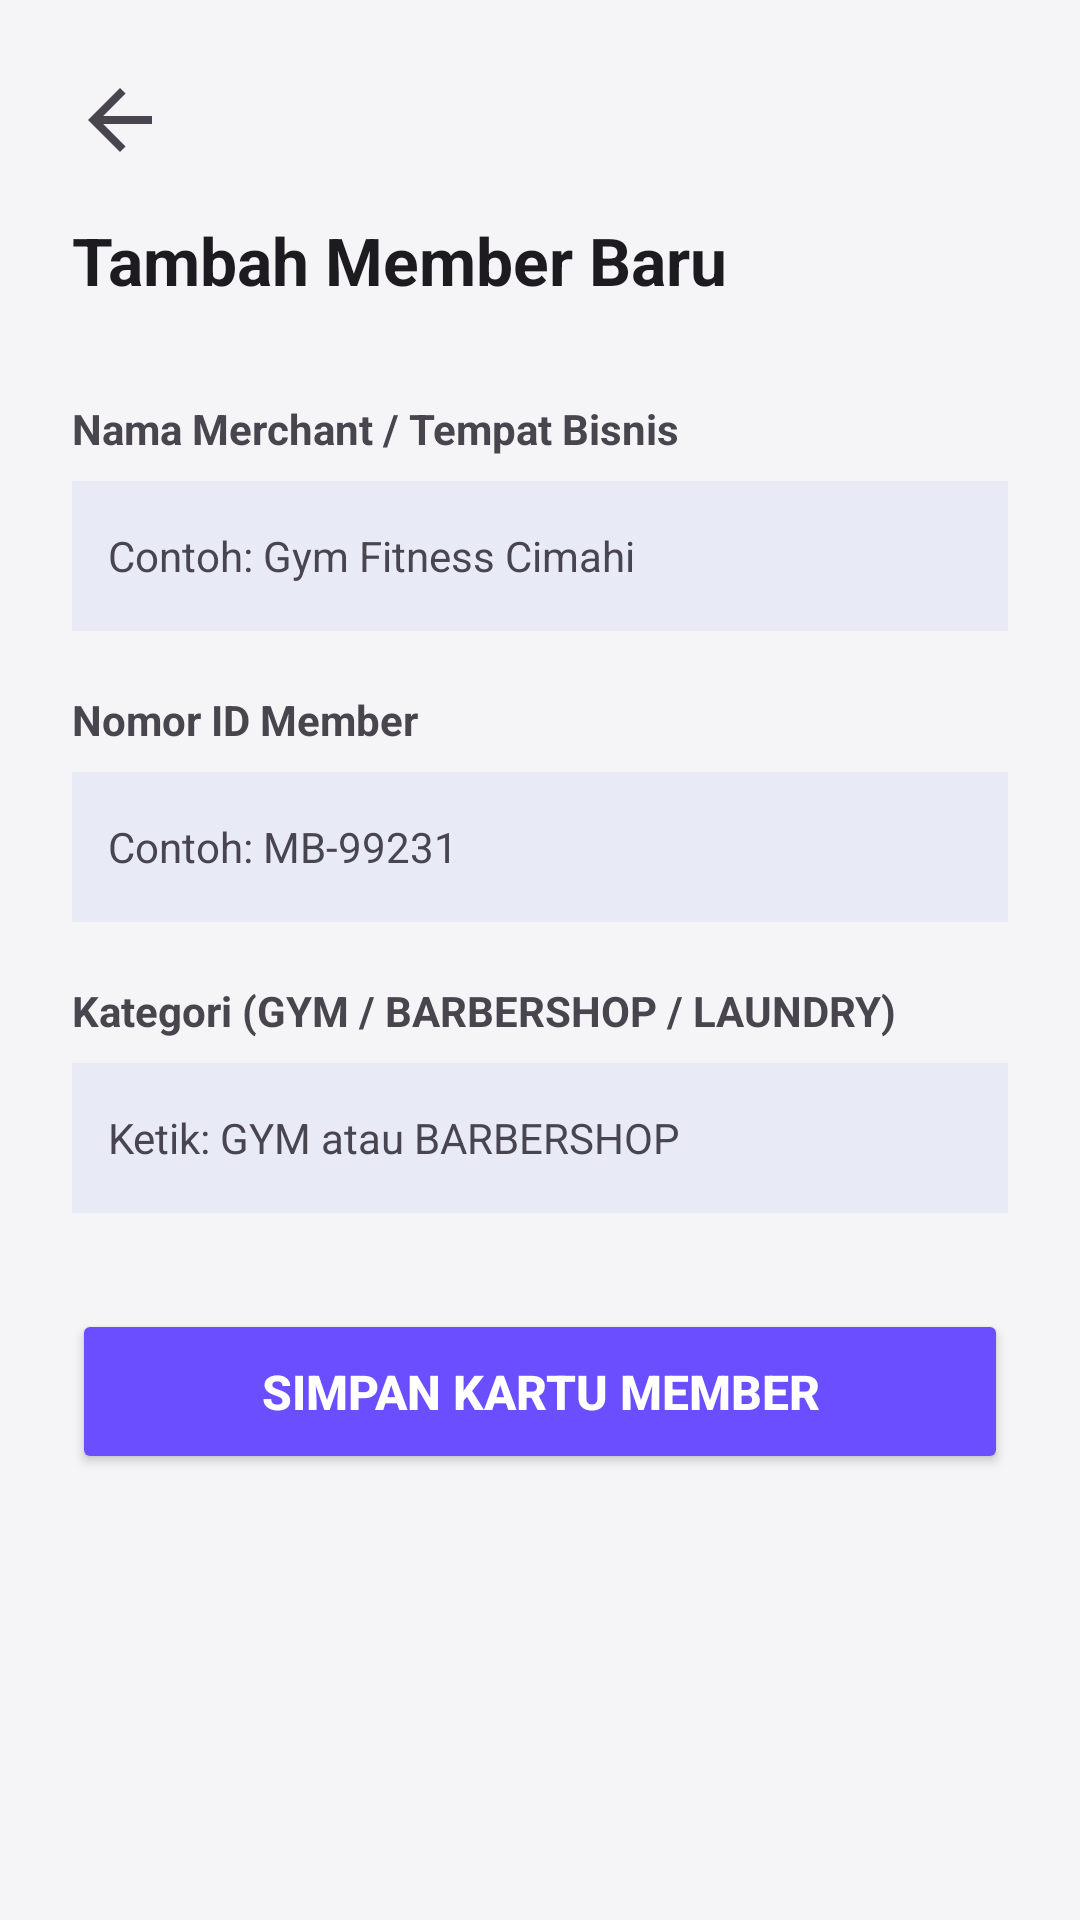

Named icons in this screenshot (1080×1920) and their centers, point (x, y):
Kembali: point (120, 120)
